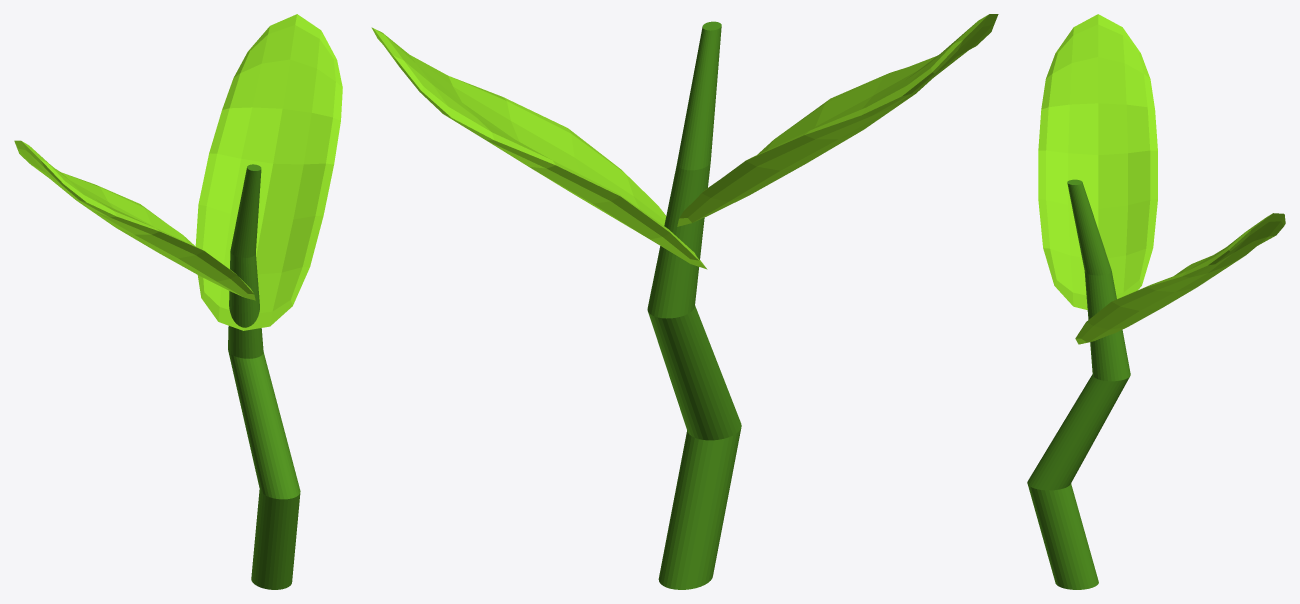
Rendered from puera javanica1 .fbx.
The picture shows the model from 3 angles, left to right: view 1: azimuth 30°, elevation 25°; view 2: azimuth 150°, elevation 25°; view 3: azimuth 270°, elevation 25°; orthographic projection. The views are drawn at different scales.
Visible parts, largest first — view 1: Cylinder.001; view 2: Cylinder.001; view 3: Cylinder.001.
Boxes of the visible parts, left/top/right/bottom form: Cylinder.001: left=14, top=14, right=342, bottom=589; Cylinder.001: left=371, top=14, right=998, bottom=589; Cylinder.001: left=1027, top=14, right=1285, bottom=589.
Size of the model in its own units: 11.34 by 13.76 by 7.03.
